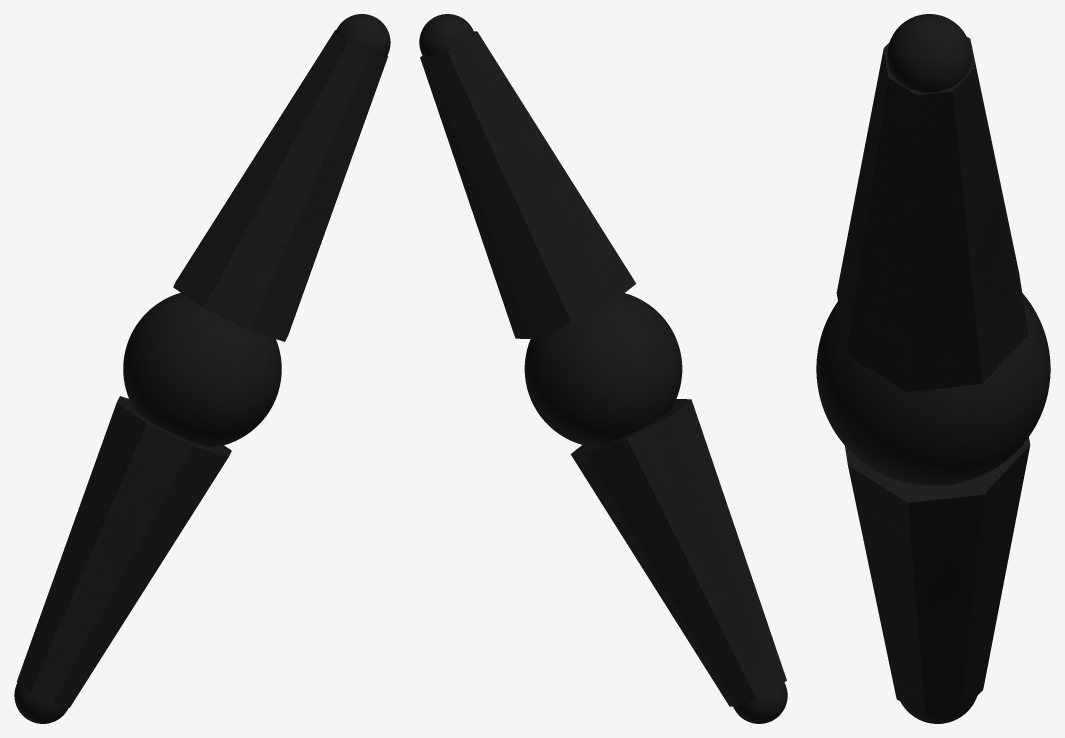
Rendered from microbot.glb.
3 renders of one model, left to right at view 1: azimuth 30°, elevation 25°; view 2: azimuth 150°, elevation 25°; view 3: azimuth 270°, elevation 25°, orthographic. The views are drawn at different scales.
Parts seen in each view (by area): view 1: Cylinder, Cylinder.001, Sphere, Sphere.001, Sphere.002; view 2: Cylinder, Cylinder.001, Sphere, Sphere.001, Sphere.002; view 3: Cylinder, Cylinder.001, Sphere, Sphere.001, Sphere.002.
Boxes of the visible parts, x1,y1,x2,y2 form: Cylinder: (173,30,388,341); Cylinder.001: (16,396,231,707); Sphere: (123,293,281,447); Sphere.001: (335,14,390,57); Sphere.002: (14,682,68,723); Cylinder: (420,31,636,338); Cylinder.001: (570,399,786,706); Sphere: (524,293,682,446); Sphere.001: (419,14,474,56); Sphere.002: (733,682,787,723); Cylinder: (836,37,1028,392); Cylinder.001: (844,437,1030,716); Sphere: (816,293,1050,485); Sphere.001: (887,14,971,92); Sphere.002: (901,697,976,723).
Bounding box in the file's own units: 1.91 × 3.14 × 0.717.
Materials: 2 (2 with a texture image).
